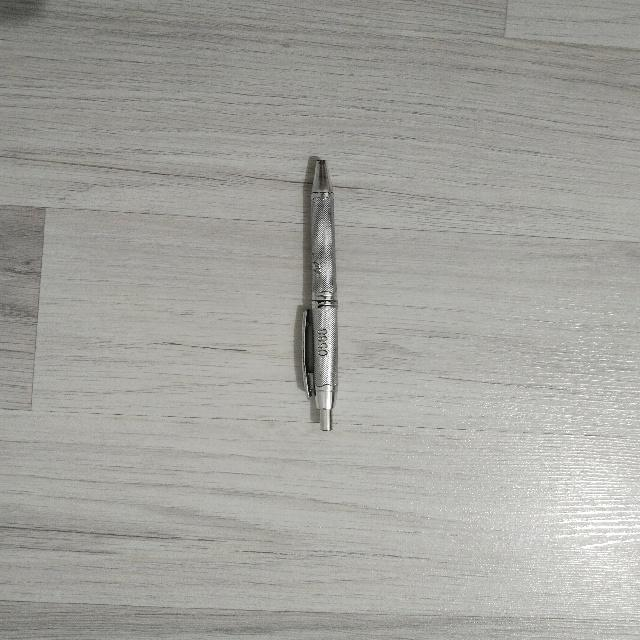signature pen: (302, 160, 337, 430)
